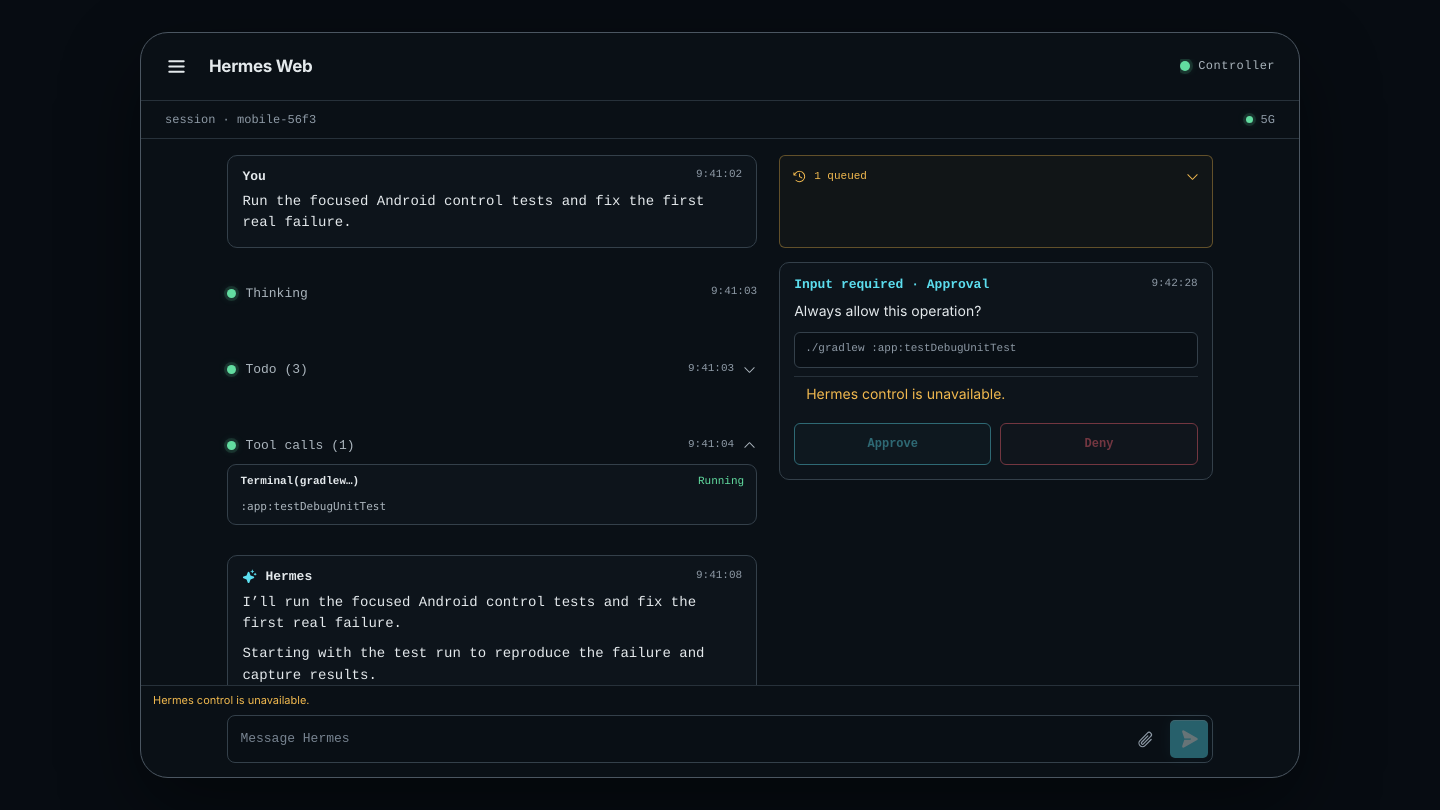
Hermes Web mobile-parity slice › expands queued work and tool details
Click the button "1 queued" at {"x": 844, "y": 176}, box x1=780 y1=156 x2=1212 y2=196
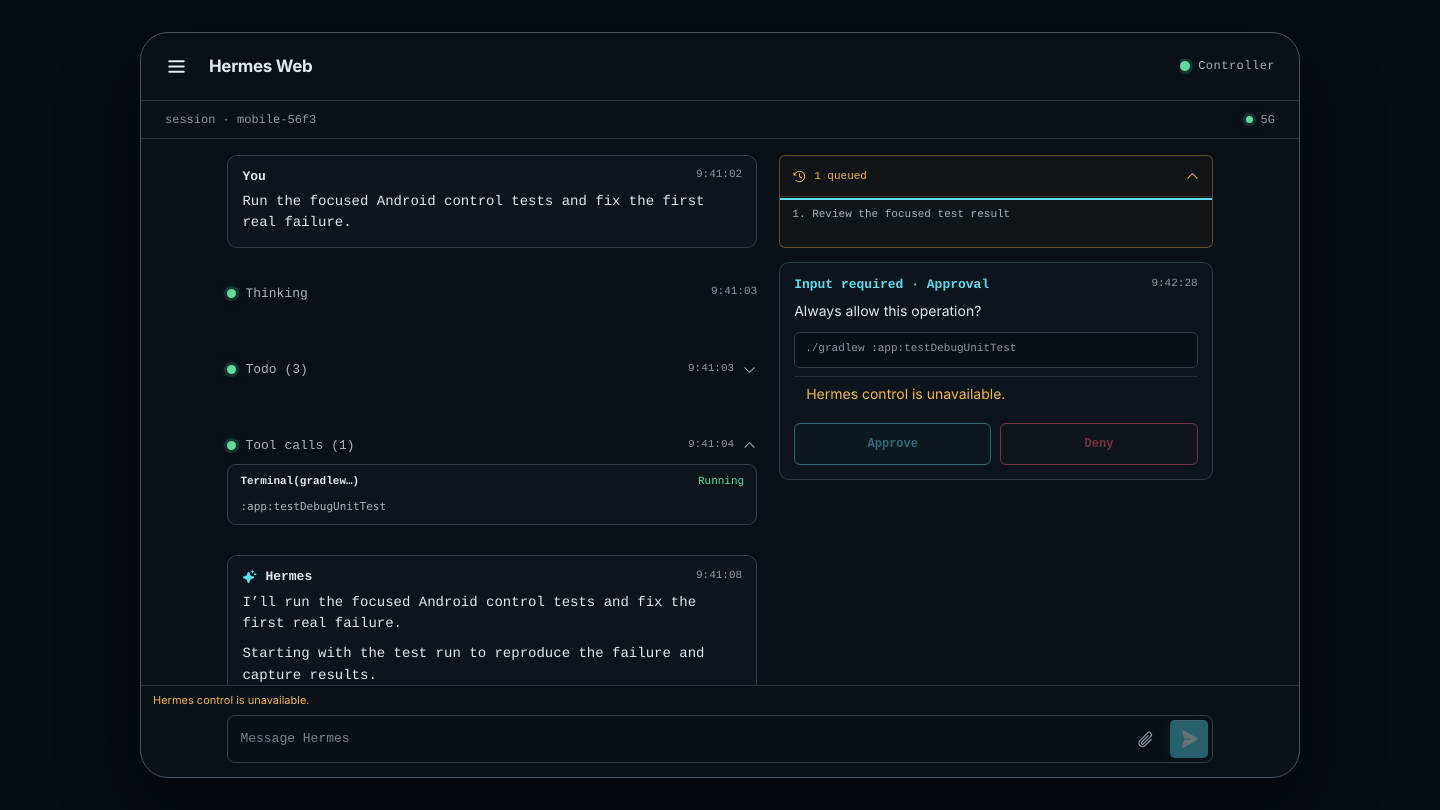
Check: the text ":app:testDebugUnitTest" is shown, box x1=240 y1=500 x2=386 y2=513
Check: the list item "Review the focused test result" is shown, box x1=812 y1=209 x2=1010 y2=221
Click the button with aria-label "Terminal(gradlew" at {"x": 284, "y": 445}, box x1=227 y1=430 x2=757 y2=460
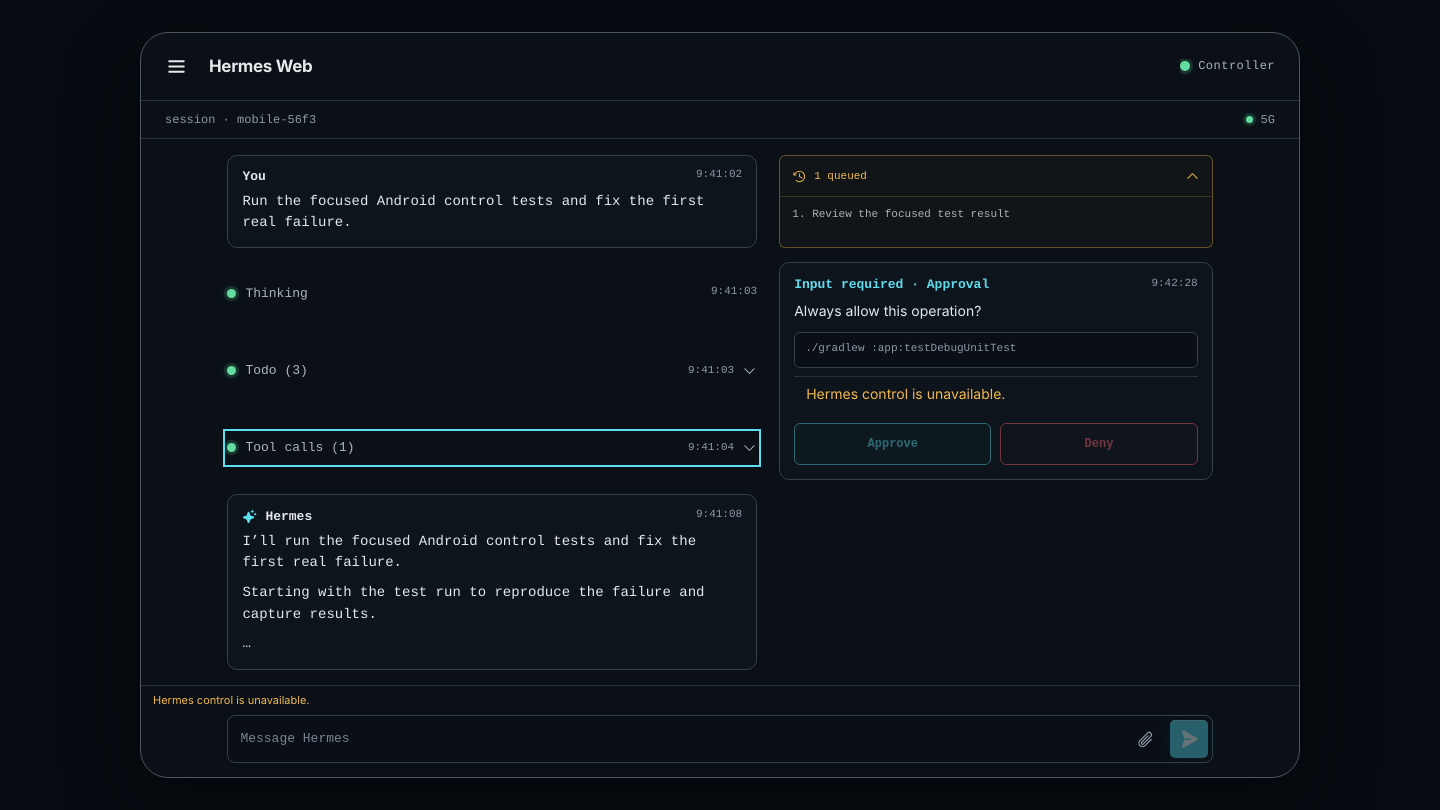
Click the button with aria-label "Terminal(gradlew" at {"x": 284, "y": 448}, box x1=227 y1=433 x2=757 y2=463
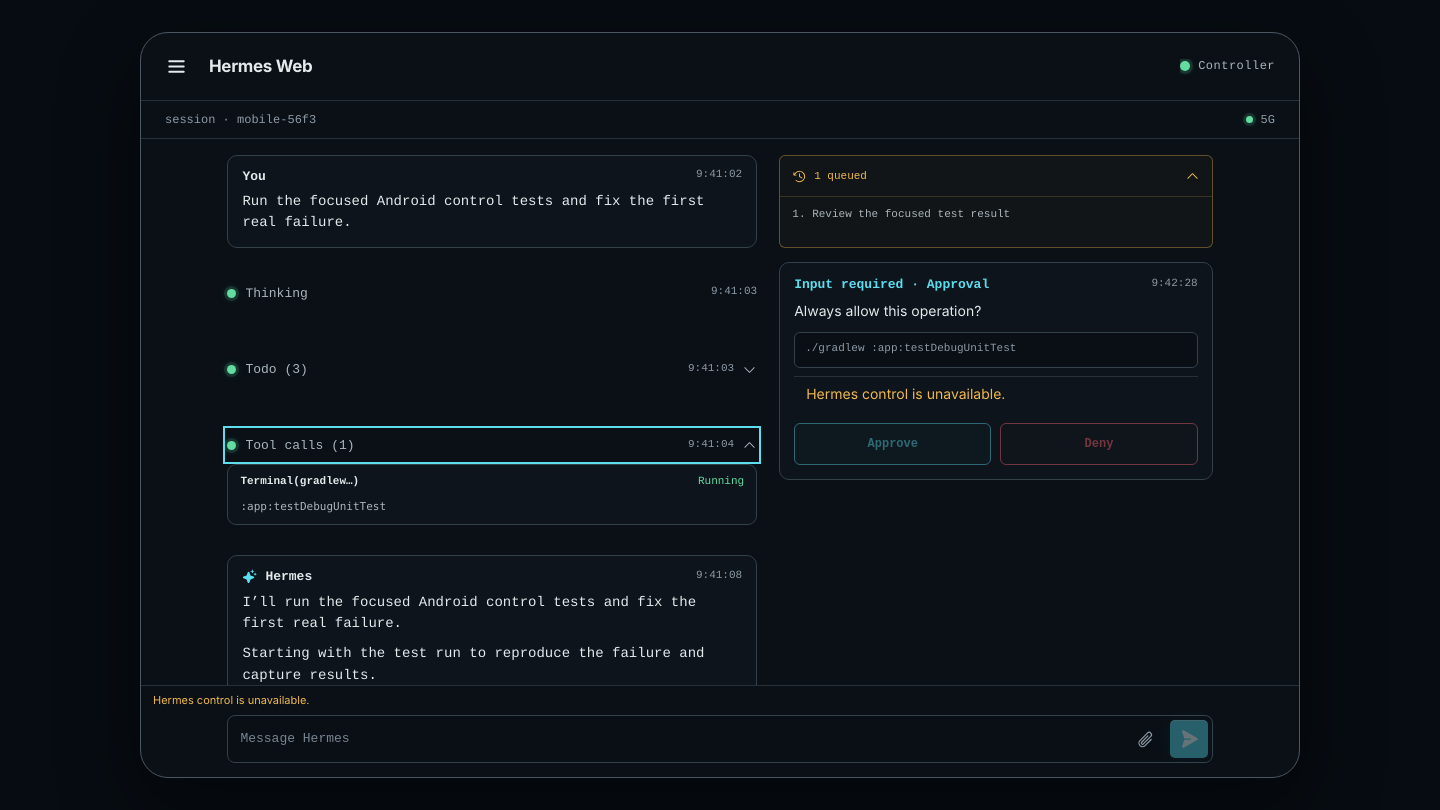
Check: the text ":app:testDebugUnitTest" is shown, box x1=240 y1=500 x2=386 y2=513
